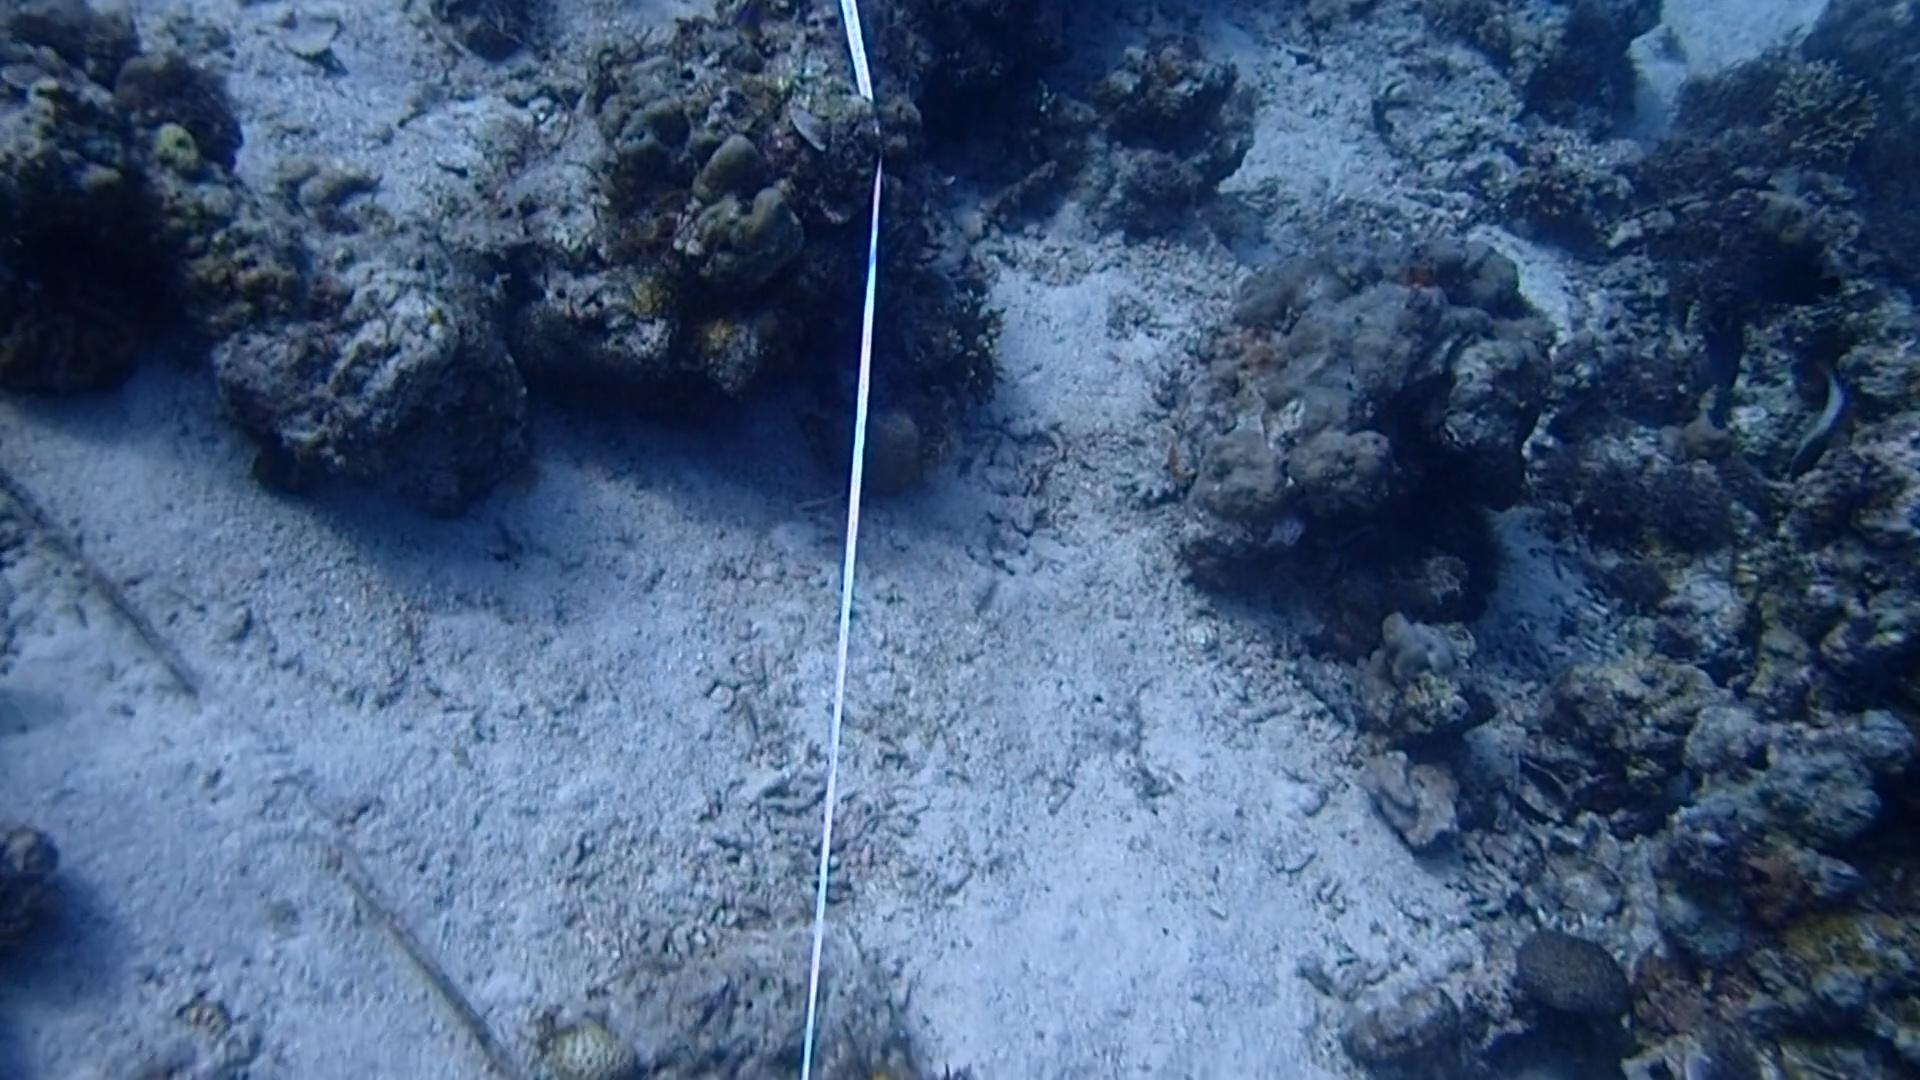Dark Fish: (1718, 241, 1849, 318), (1698, 313, 1751, 390)
